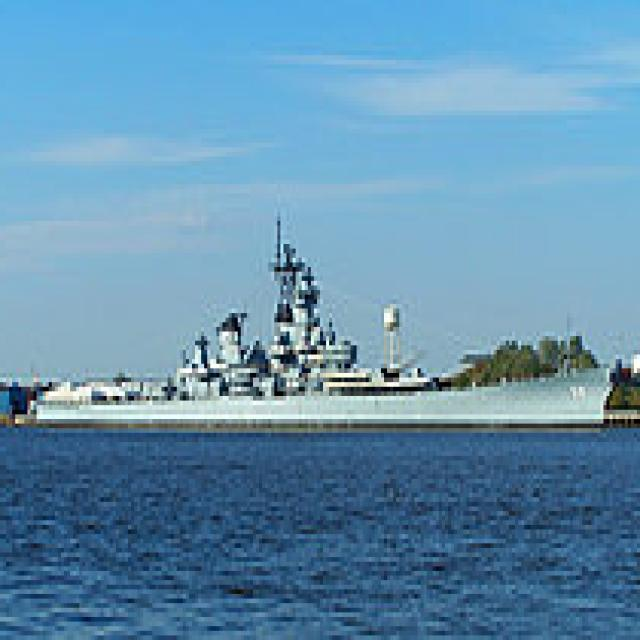Warship: (36, 198, 622, 433)
